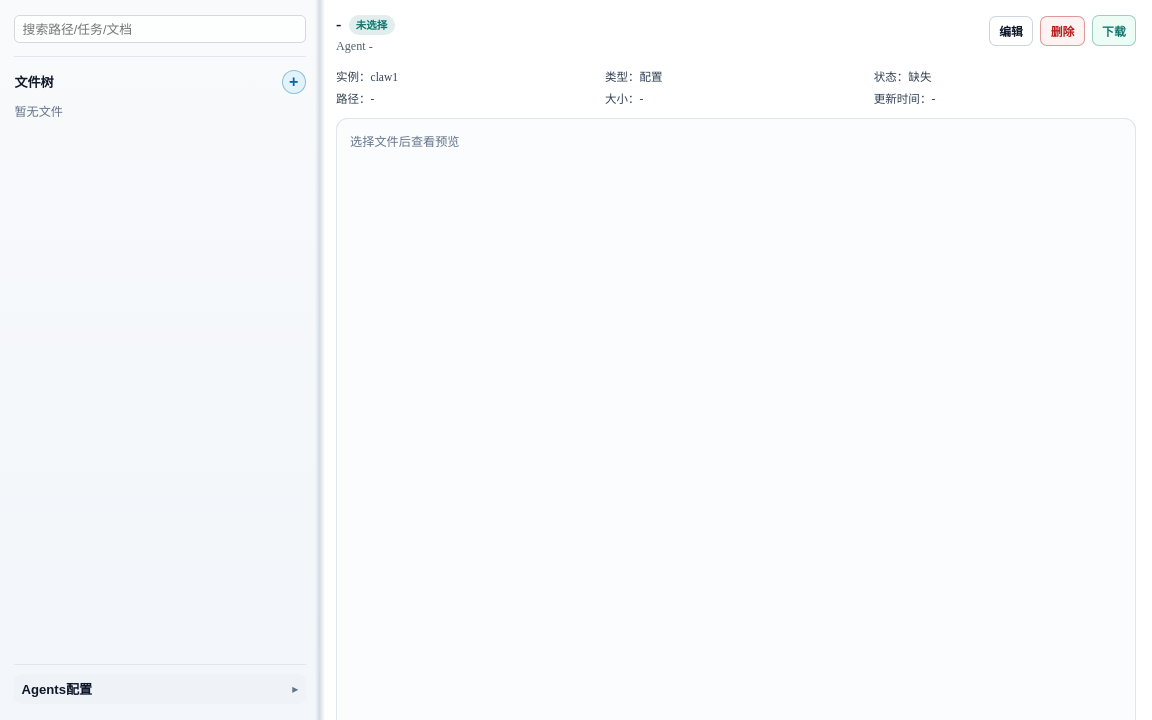
it: InstanceFilesPage › loads agent docs and renders markdown preview
Click the button with aria-label "切换 Agents配置": (57,690) [14,674,306,704]
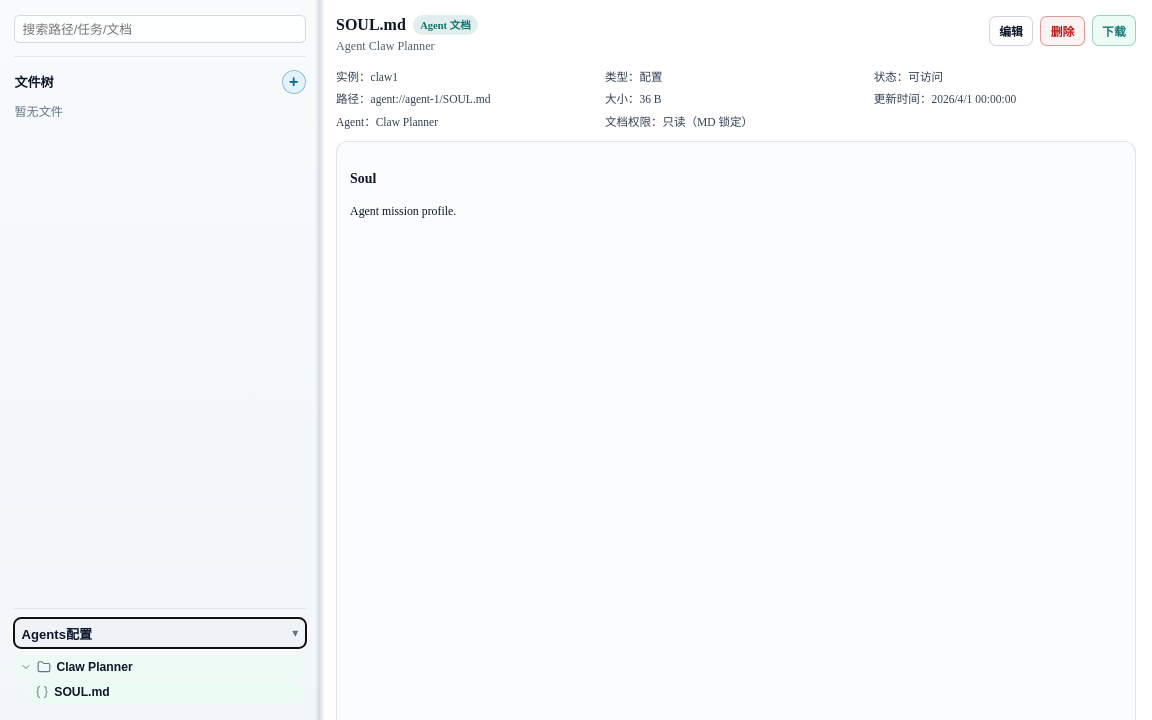
Check: the button with aria-label "查看 Agent 文档 SOUL.md" is shown, box [29,680,303,704]
Check: the heading "Soul" is shown, box [350,170,376,186]
Check: the text "Agent mission profile." is shown, box [350,204,456,218]
